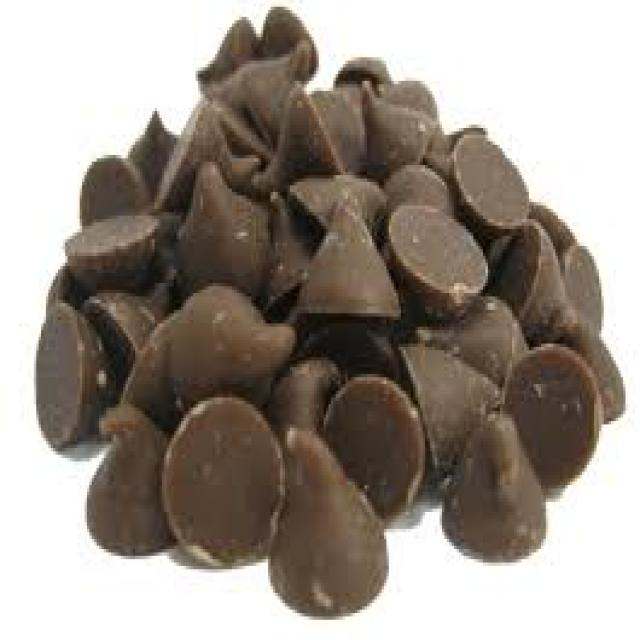Chocolate: (36, 5, 626, 606)
